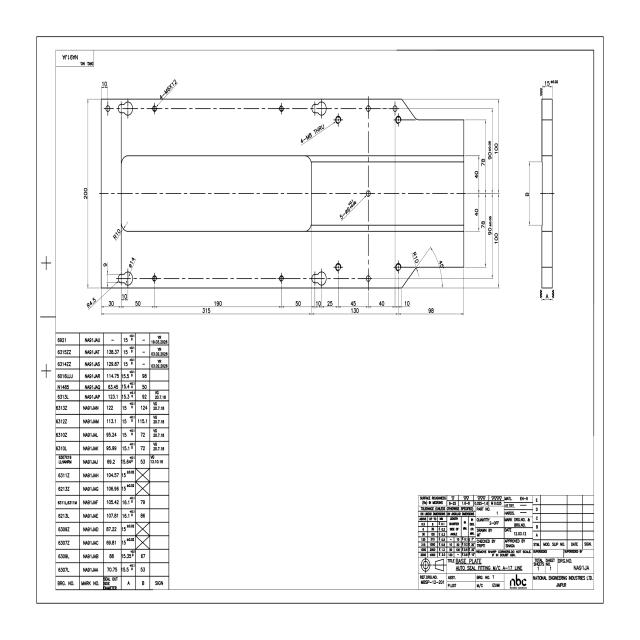dimension: (298, 120, 327, 146), (158, 76, 179, 103), (338, 196, 358, 223), (84, 296, 98, 311), (111, 226, 122, 242), (127, 255, 137, 271), (410, 249, 420, 265), (544, 78, 559, 88), (487, 214, 493, 237), (487, 138, 493, 161), (213, 298, 223, 308), (437, 259, 446, 270), (120, 292, 129, 302), (202, 307, 212, 315), (83, 187, 89, 200), (494, 231, 499, 246), (350, 306, 359, 314), (494, 142, 499, 156), (473, 169, 479, 180), (107, 300, 115, 308), (134, 300, 142, 308), (378, 300, 386, 308), (427, 306, 435, 314), (101, 79, 108, 88), (480, 220, 486, 230), (480, 157, 486, 167), (102, 261, 109, 269), (295, 300, 302, 308), (315, 300, 322, 308), (404, 300, 411, 308), (474, 207, 479, 218), (350, 300, 356, 308), (327, 300, 333, 307), (524, 191, 530, 198), (545, 292, 549, 300)
